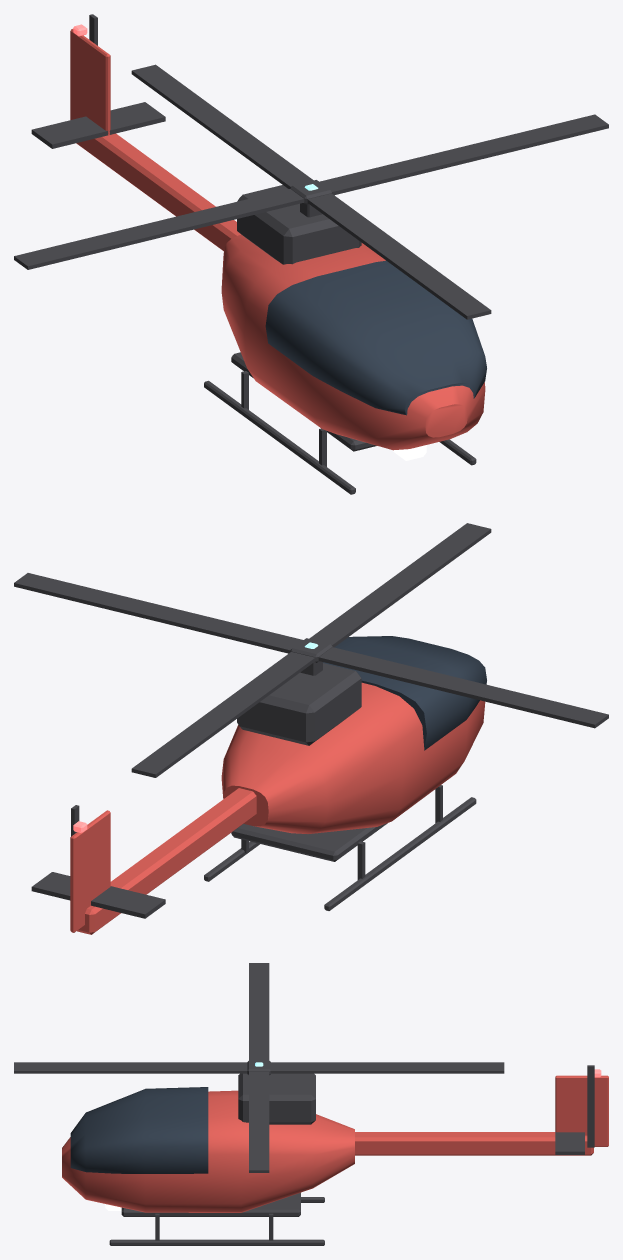
File: vehicle_heli.glb
3 views of the same model, one above another, from view 1: azimuth 30°, elevation 25°; view 2: azimuth 150°, elevation 25°; view 3: azimuth 270°, elevation 25° (orthographic). The views are drawn at different scales.
Visible parts, largest first — view 1: canopy, rotor_main, fuselage, engine, boom, fin, stab, skid.001; view 2: fuselage, rotor_main, canopy, engine, boom, fin, belly, stab, skid.001; view 3: fuselage, canopy, rotor_main, boom, fin, engine, skid, belly, stab, rotor_tail.
Boxes of the visible parts, x1=… form: canopy: x1=265, y1=260, x2=486, y2=415; rotor_main: x1=14, y1=64, x2=608, y2=319; fuselage: x1=221, y1=234, x2=485, y2=450; engine: x1=237, y1=185, x2=361, y2=264; boom: x1=76, y1=133, x2=240, y2=251; fin: x1=70, y1=29, x2=110, y2=135; stab: x1=31, y1=102, x2=165, y2=148; skid.001: x1=204, y1=380, x2=355, y2=494; fuselage: x1=221, y1=682, x2=485, y2=833; rotor_main: x1=14, y1=523, x2=608, y2=777; canopy: x1=323, y1=636, x2=486, y2=750; engine: x1=237, y1=663, x2=361, y2=745; boom: x1=77, y1=788, x2=256, y2=934; fin: x1=70, y1=810, x2=110, y2=932; belly: x1=231, y1=823, x2=387, y2=861; stab: x1=31, y1=872, x2=165, y2=918; skid.001: x1=324, y1=797, x2=476, y2=910; fuselage: x1=62, y1=1090, x2=354, y2=1212; canopy: x1=70, y1=1087, x2=208, y2=1173; rotor_main: x1=14, y1=963, x2=504, y2=1172; boom: x1=355, y1=1132, x2=593, y2=1155; fin: x1=555, y1=1075, x2=608, y2=1146; engine: x1=238, y1=1073, x2=315, y2=1124; skid: x1=109, y1=1239, x2=324, y2=1245; belly: x1=121, y1=1192, x2=300, y2=1216; stab: x1=555, y1=1132, x2=584, y2=1154; rotor_tail: x1=587, y1=1065, x2=594, y2=1147.
Size of the model in its own units: 8.2 by 2.97 by 9.95.
